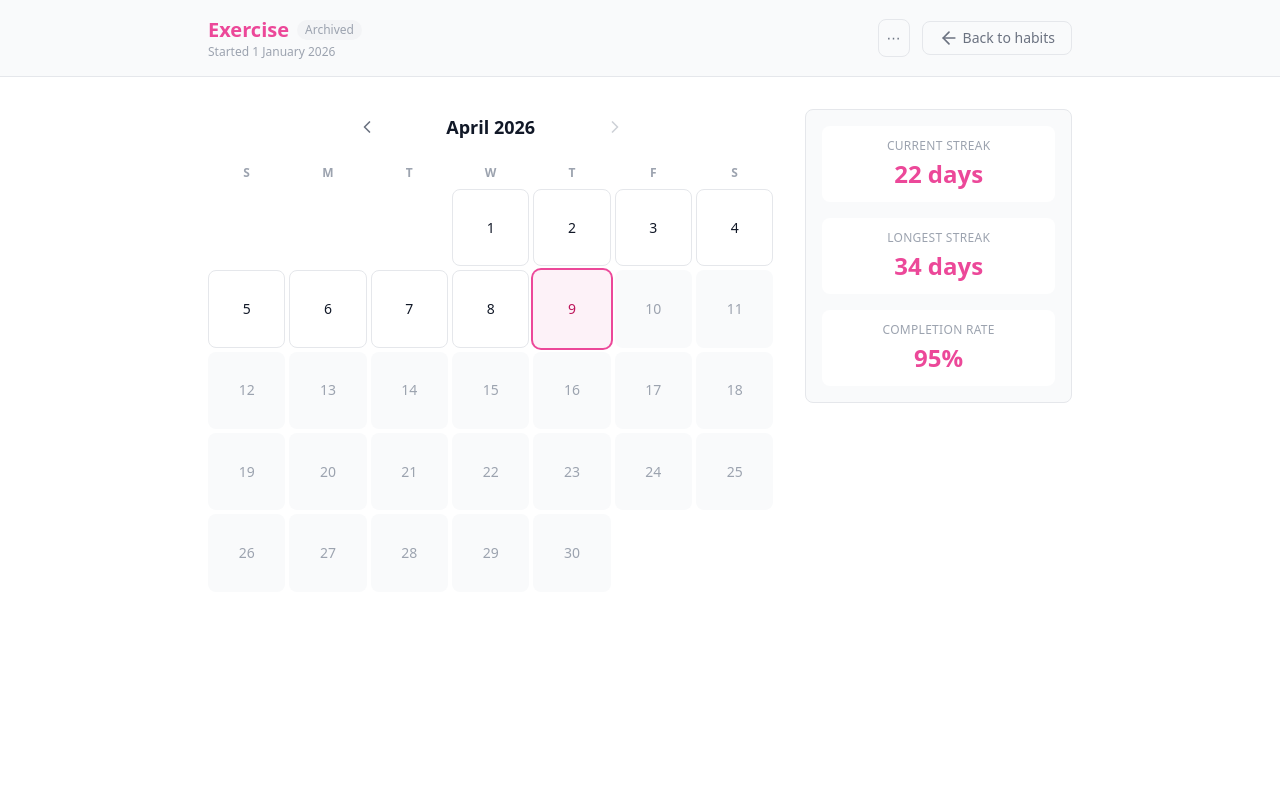
it: HabitCalendarPage › shows HABIT_LIMIT_REACHED error when unarchiving with 10 active habits
Expected: the heading "Exercise" is shown, [208,16,289,44]
Click the button named "habit settings": click(894, 38) [878,19,910,57]
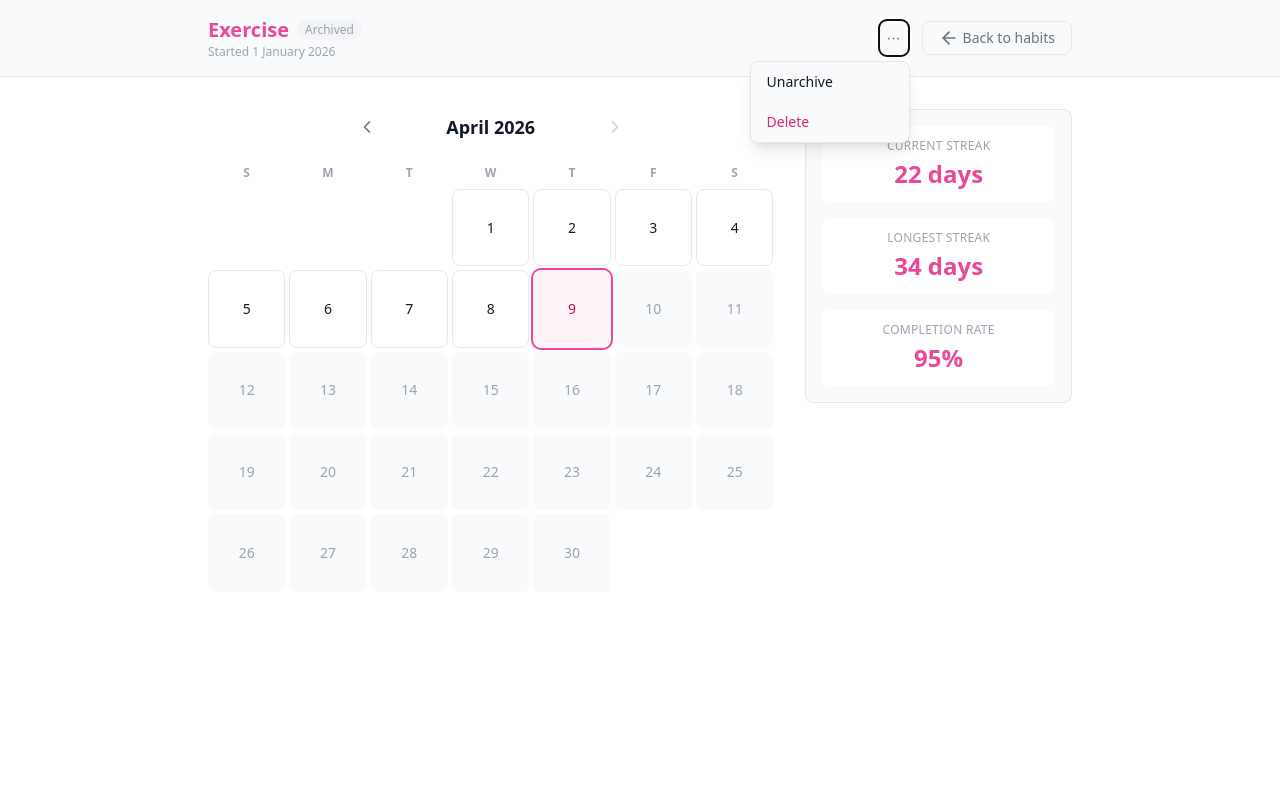
Click the menu item "Unarchive": click(830, 82) [750,62,908,102]
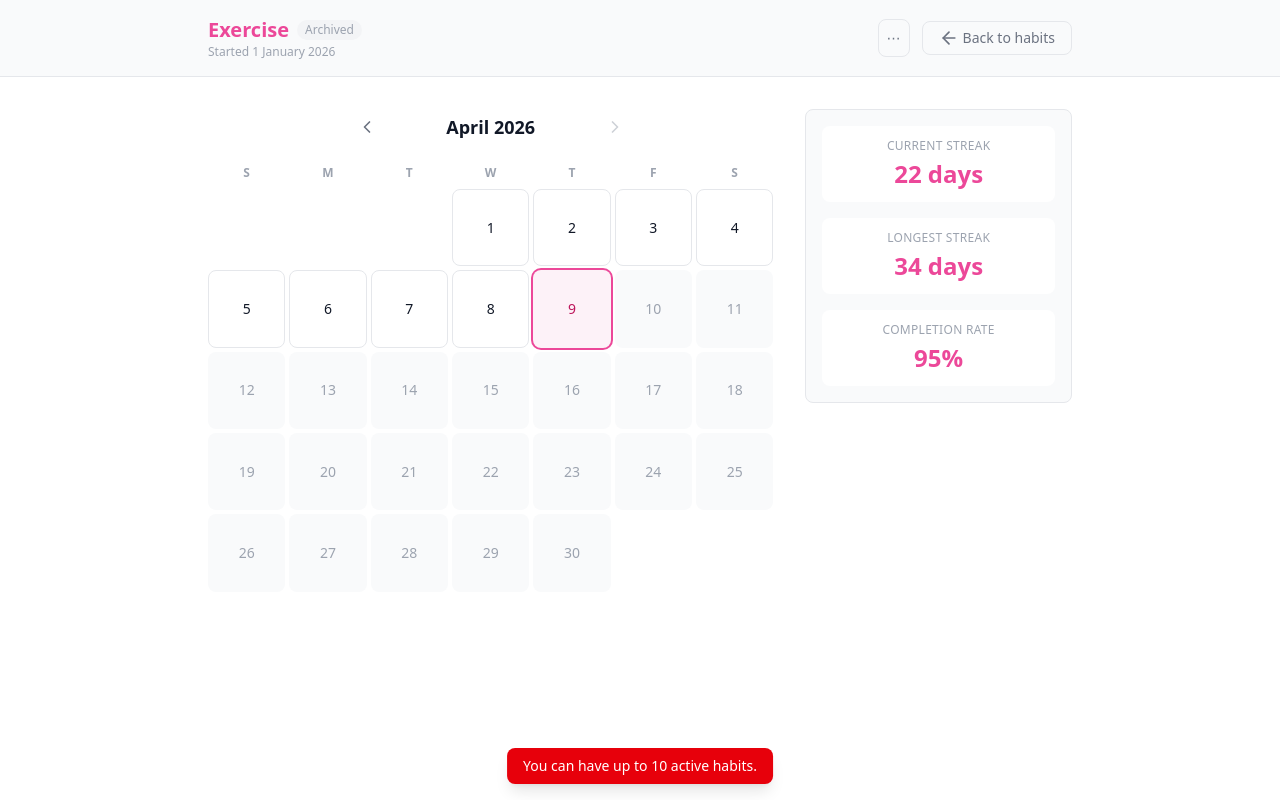
Expected: the text "You can have up to 10 active habits." is shown, [507,748,773,784]
